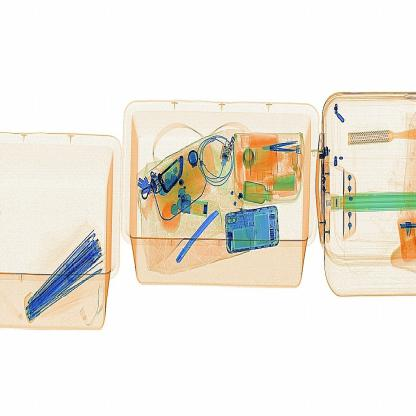pliers: (171, 206, 224, 268)
